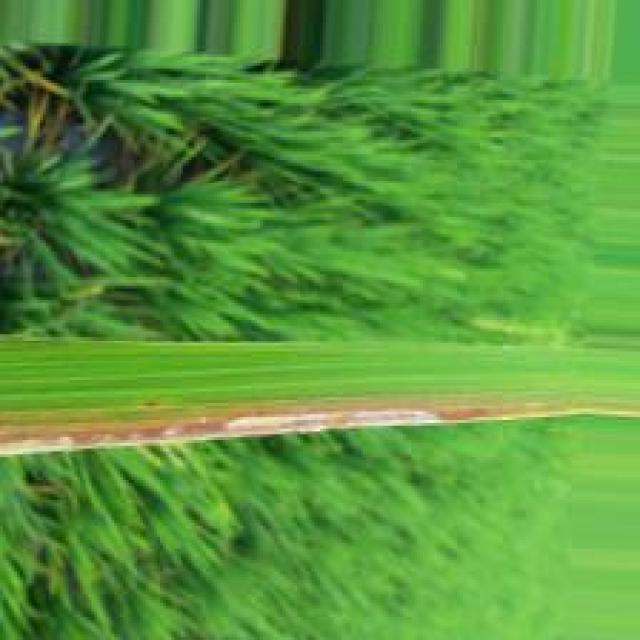Bacterial_Leaf_Blight: (0, 393, 640, 460)
